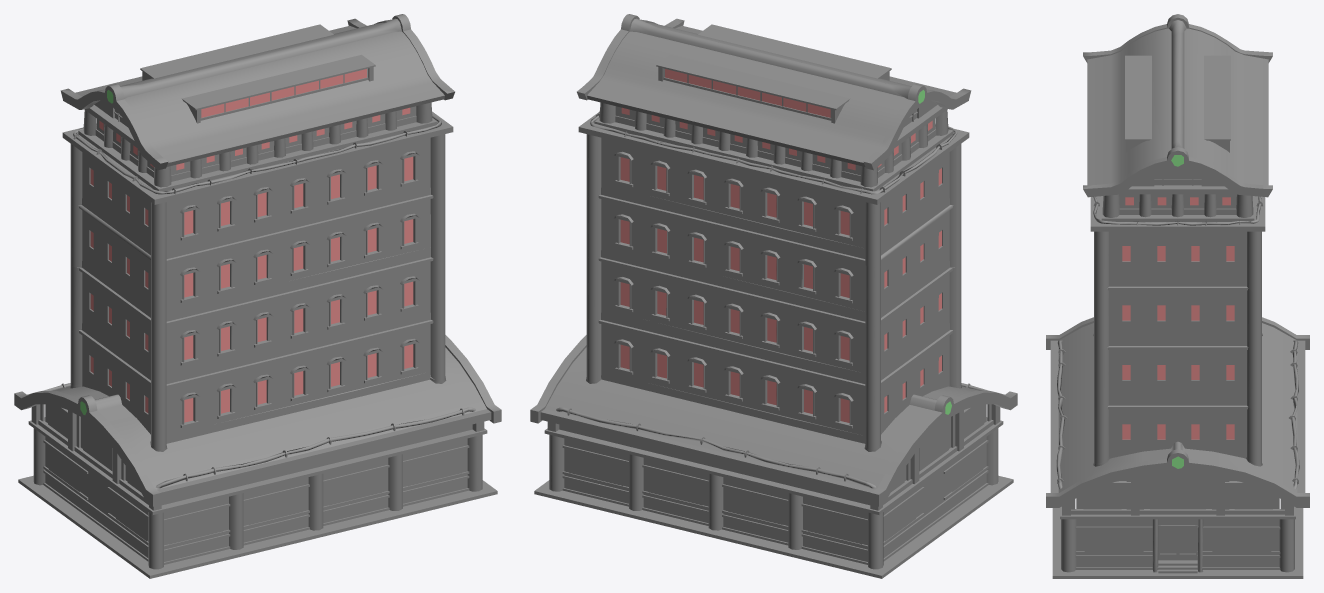
Rendered from SM_ENV_LKNVLD_CommonBuilding_A.gltf.
3 renders of one model, left to right at view 1: azimuth 30°, elevation 25°; view 2: azimuth 150°, elevation 25°; view 3: azimuth 270°, elevation 25°, orthographic. The views are drawn at different scales.
Parts seen in each view (by area): view 1: SM_ENV_LKNVLD_CommonBuilding_A; view 2: SM_ENV_LKNVLD_CommonBuilding_A; view 3: SM_ENV_LKNVLD_CommonBuilding_A.
Part boxes in pixels (x1,y1,x2,y2): SM_ENV_LKNVLD_CommonBuilding_A: (14, 14, 501, 578); SM_ENV_LKNVLD_CommonBuilding_A: (530, 14, 1017, 578); SM_ENV_LKNVLD_CommonBuilding_A: (1046, 14, 1309, 578).
Size of the model in its own units: 35.06 by 42 by 24.13.
